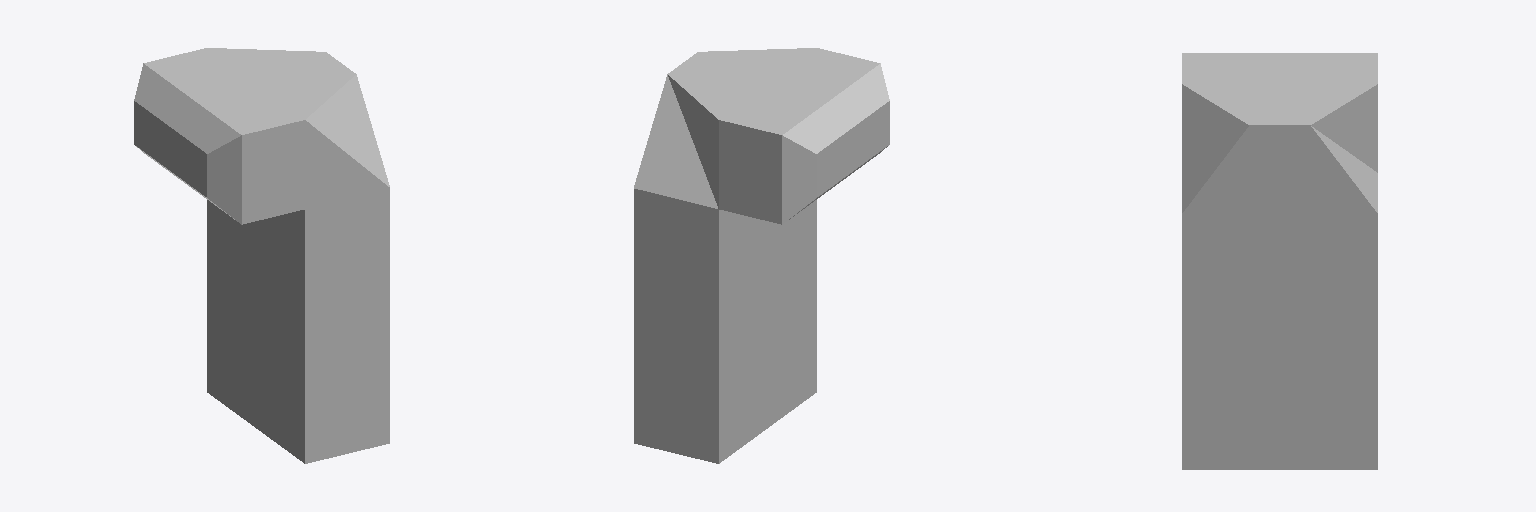
Rendered from Hammer.obj.
3 views of the same model, side by side, from view 1: azimuth 30°, elevation 25°; view 2: azimuth 150°, elevation 25°; view 3: azimuth 270°, elevation 25° (orthographic).
Parts seen in each view (by area): view 1: Hammer; view 2: Hammer; view 3: Hammer.
Boxes of the visible parts, <box> form: Hammer: <box>134,48,389,463</box>; Hammer: <box>634,48,889,463</box>; Hammer: <box>1182,53,1377,469</box>.
Size of the model in its own units: 0.0236 by 0.0456 by 0.0236.